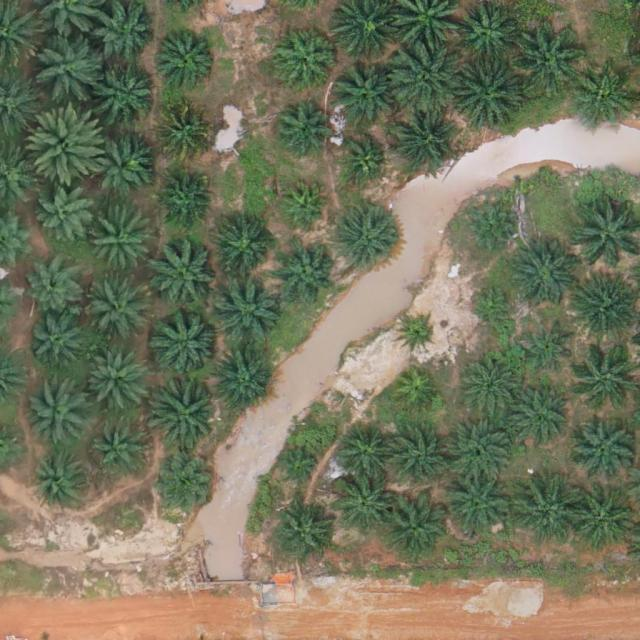Healthy: (30, 107, 108, 186), (451, 60, 522, 131), (444, 415, 515, 486), (442, 470, 513, 541), (31, 31, 102, 102), (568, 276, 638, 347), (394, 44, 464, 115), (510, 476, 580, 547), (381, 495, 452, 565), (152, 308, 223, 378), (566, 488, 636, 558), (514, 24, 584, 94), (508, 242, 578, 312), (212, 274, 282, 344), (150, 239, 220, 309), (152, 378, 222, 448), (570, 419, 633, 482), (275, 27, 338, 90), (89, 212, 152, 275), (574, 69, 636, 132), (392, 110, 455, 172), (331, 63, 393, 126), (460, 355, 522, 418), (508, 388, 570, 451), (388, 429, 450, 492), (335, 424, 397, 487), (277, 243, 340, 305), (211, 349, 273, 412), (274, 503, 336, 566), (156, 27, 218, 90), (154, 458, 216, 521), (95, 5, 157, 68), (98, 64, 160, 127), (89, 130, 151, 193), (86, 282, 148, 345), (84, 349, 146, 412), (336, 210, 398, 272), (332, 474, 394, 536), (28, 382, 90, 444), (523, 322, 578, 377), (463, 202, 518, 257), (274, 101, 329, 156), (218, 223, 273, 278), (157, 172, 212, 227), (33, 454, 88, 509), (37, 187, 92, 242), (26, 262, 81, 317), (28, 316, 82, 372), (95, 423, 149, 478)
Small: (281, 182, 328, 230), (341, 136, 388, 183), (471, 284, 518, 331), (277, 447, 324, 494), (398, 315, 438, 355)
Yellow: (156, 104, 211, 159), (393, 370, 440, 417)
